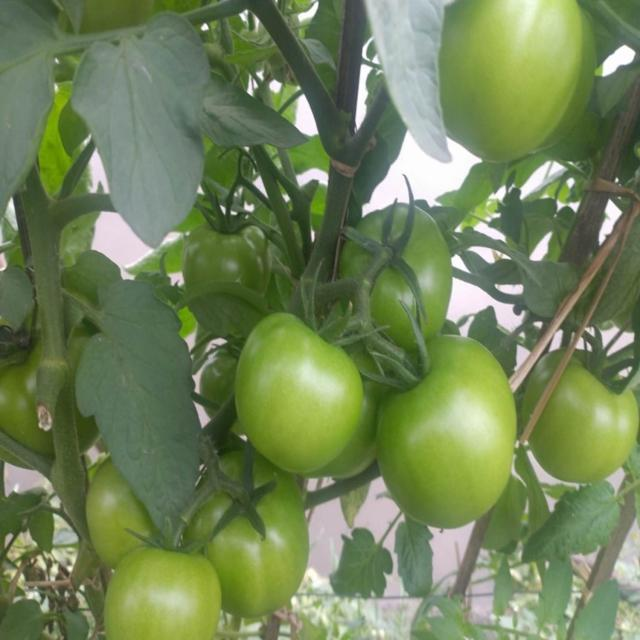tomato: (437, 3, 599, 161), (384, 347, 521, 526), (232, 319, 357, 475), (189, 462, 312, 614), (531, 347, 634, 486), (351, 202, 452, 341), (1, 323, 99, 458), (102, 544, 221, 640), (184, 212, 278, 303), (89, 458, 164, 559), (198, 347, 235, 419)
